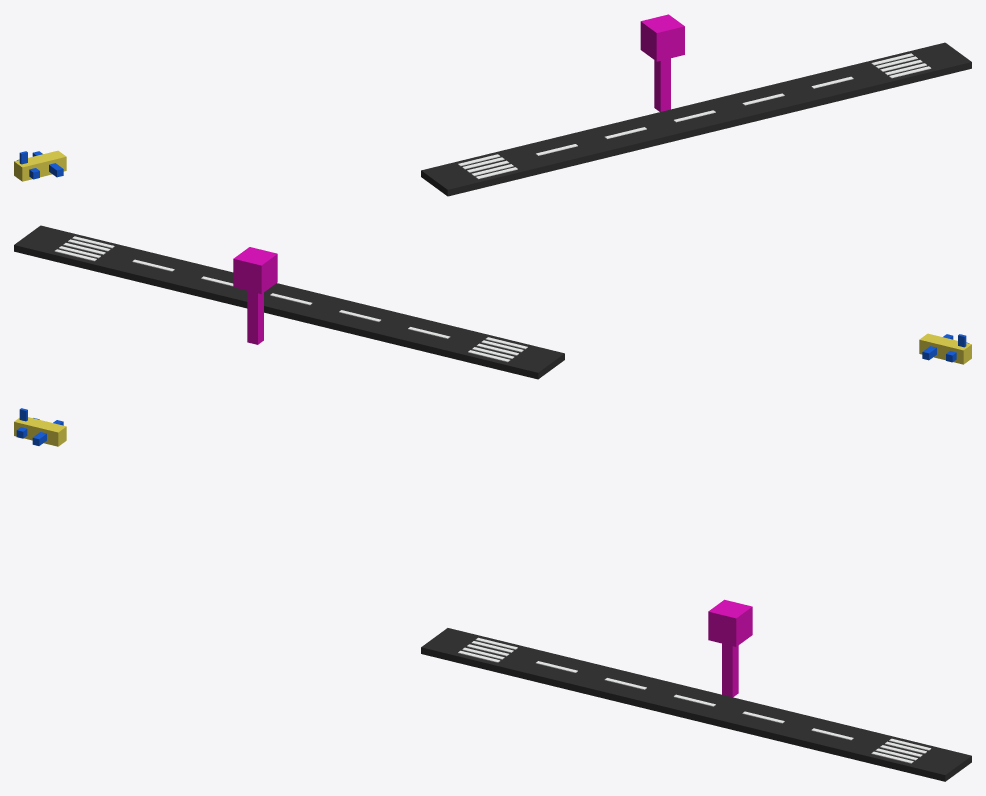
File: airport_diorama.glb
3 renders of one model, top to bottom at view 1: azimuth 30°, elevation 25°; view 2: azimuth 150°, elevation 25°; view 3: azimuth 330°, elevation 25°, orthographic.
Visible parts, largest first — view 1: Cube, Cube.002, Cube.001; view 2: Cube, Cube.002, Cube.001; view 3: Cube, Cube.002, Cube.001.
Boxes of the visible parts, <box> form: Cube: <box>421,42,971,196</box>; Cube.002: <box>640,14,684,111</box>; Cube.001: <box>14,150,66,181</box>; Cube: <box>14,225,564,379</box>; Cube.002: <box>233,247,277,344</box>; Cube.001: <box>919,333,971,364</box>; Cube: <box>421,628,971,781</box>; Cube.002: <box>708,599,752,697</box>; Cube.001: <box>14,408,66,446</box>.
Size of what is drawn, in the model's own units: 7.18 by 1.06 by 0.7302.
